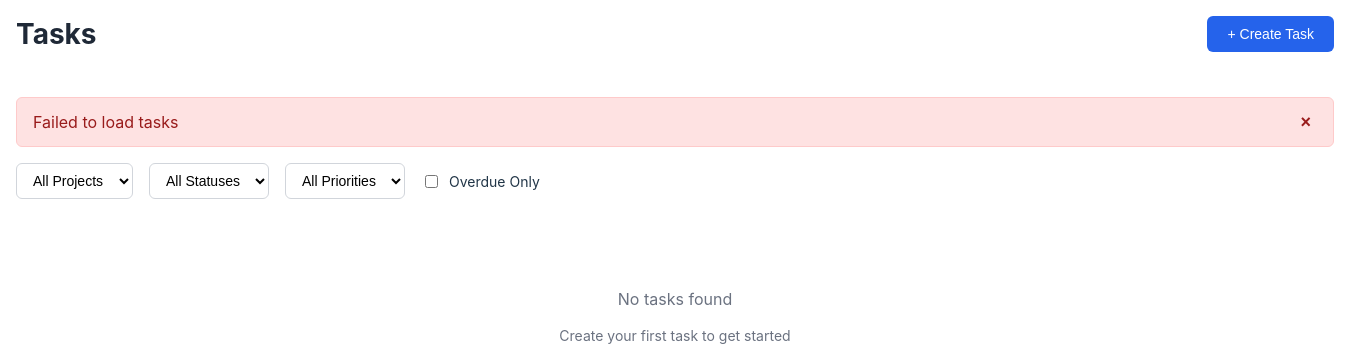
TasksPage Integration Tests › Error Handling › closes error banner when close button is clicked
The image size is (1351, 361).
Expected: the text "Failed to load tasks" is shown, [33,110,178,134]
Click the button "×". click: (1306, 122)
box: [1294,111,1317,134]
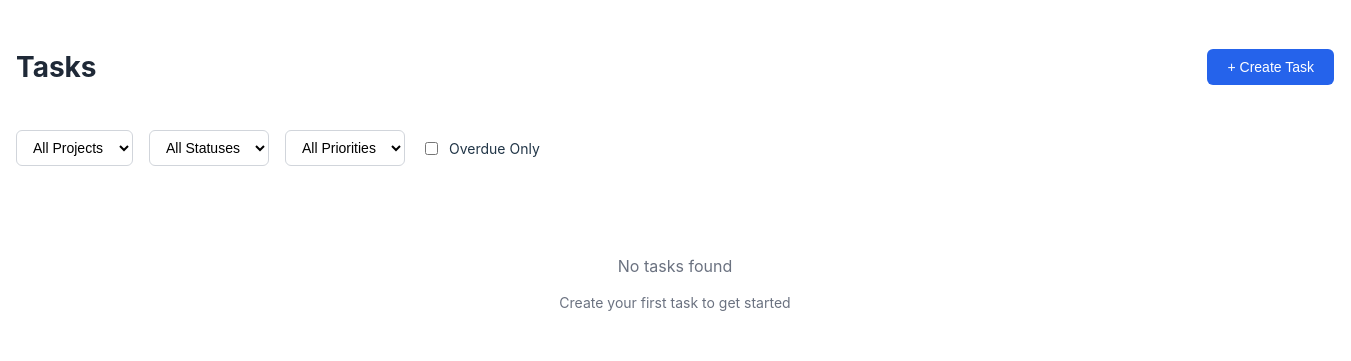
Result: the text "Failed to load tasks" is gone
